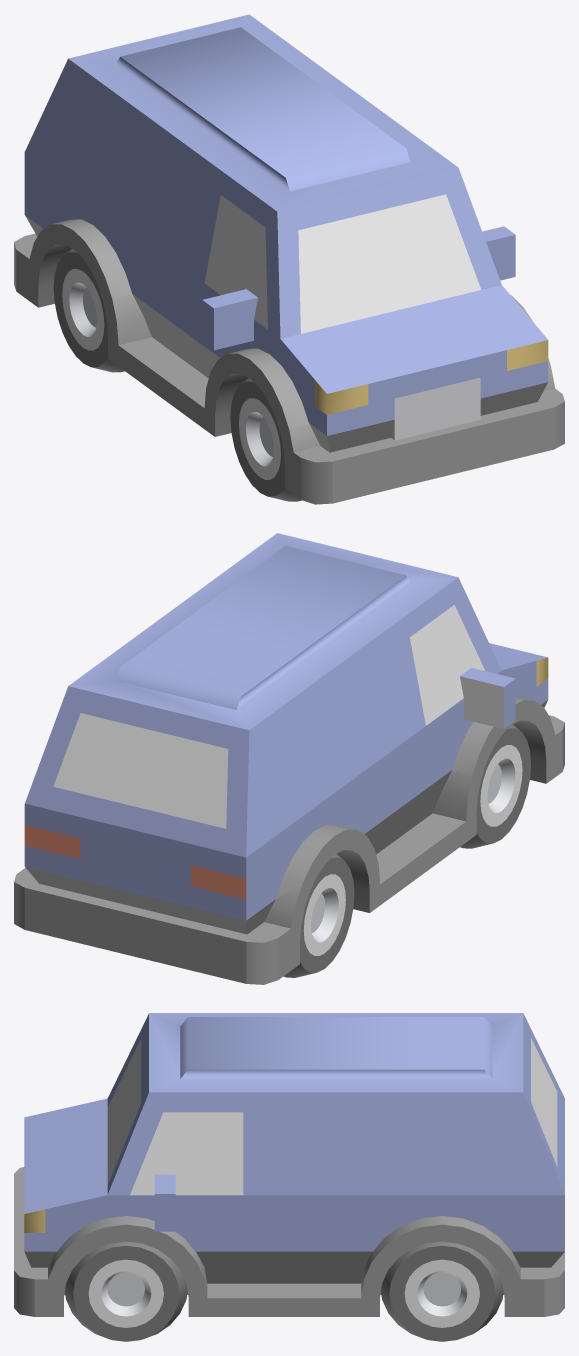
The model's file is truck.glb.
The picture shows the model from 3 angles, top to bottom: view 1: azimuth 30°, elevation 25°; view 2: azimuth 150°, elevation 25°; view 3: azimuth 270°, elevation 25°; orthographic projection. The views are drawn at different scales.
Visible parts, largest first — view 1: truck; view 2: truck; view 3: truck.
Part boxes in pixels (x1,y1,x2,y2): truck: [14, 14, 564, 504]; truck: [14, 533, 564, 984]; truck: [14, 1013, 564, 1341].
Bounding box in the file's own units: 1.5 × 1.35 × 2.65.
